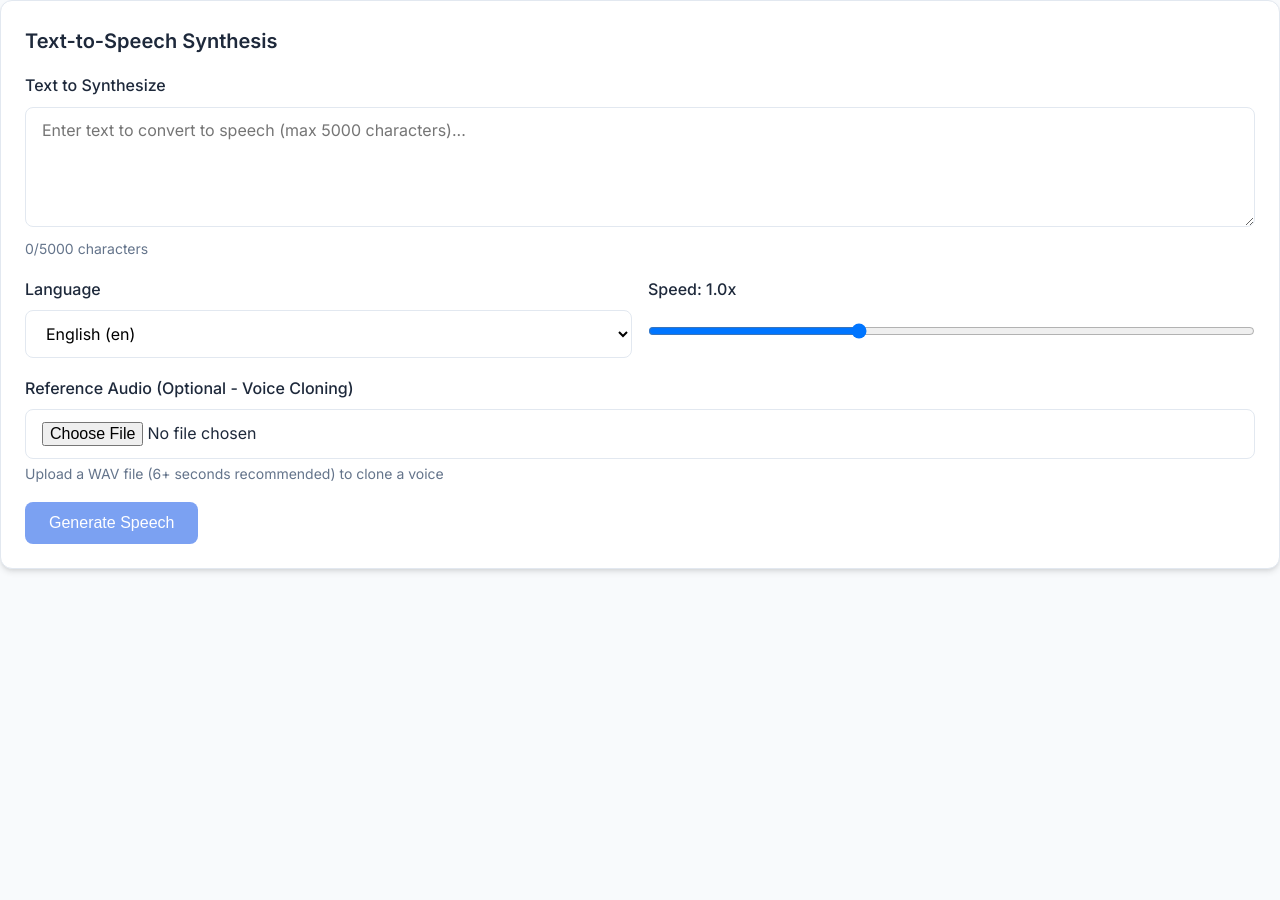
TTSForm › shows audio player after successful synthesis
The image size is (1280, 900).
Type "Hello" into the text box labelled "Text to Synthesize". click: coordinates (640, 167)
box: [25, 107, 1255, 227]
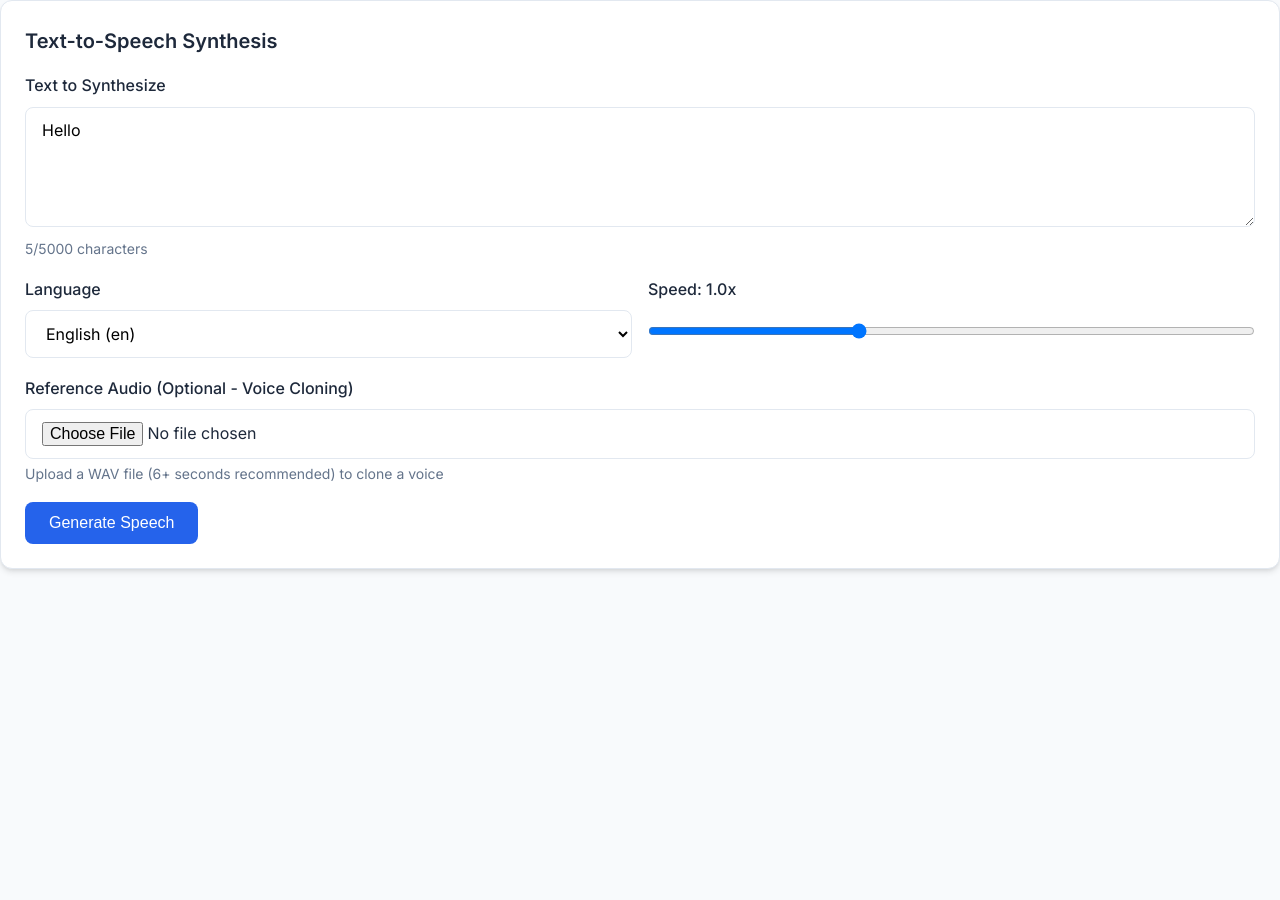
Click the button "Generate Speech". click: coordinates (112, 523)
box: [25, 502, 198, 544]
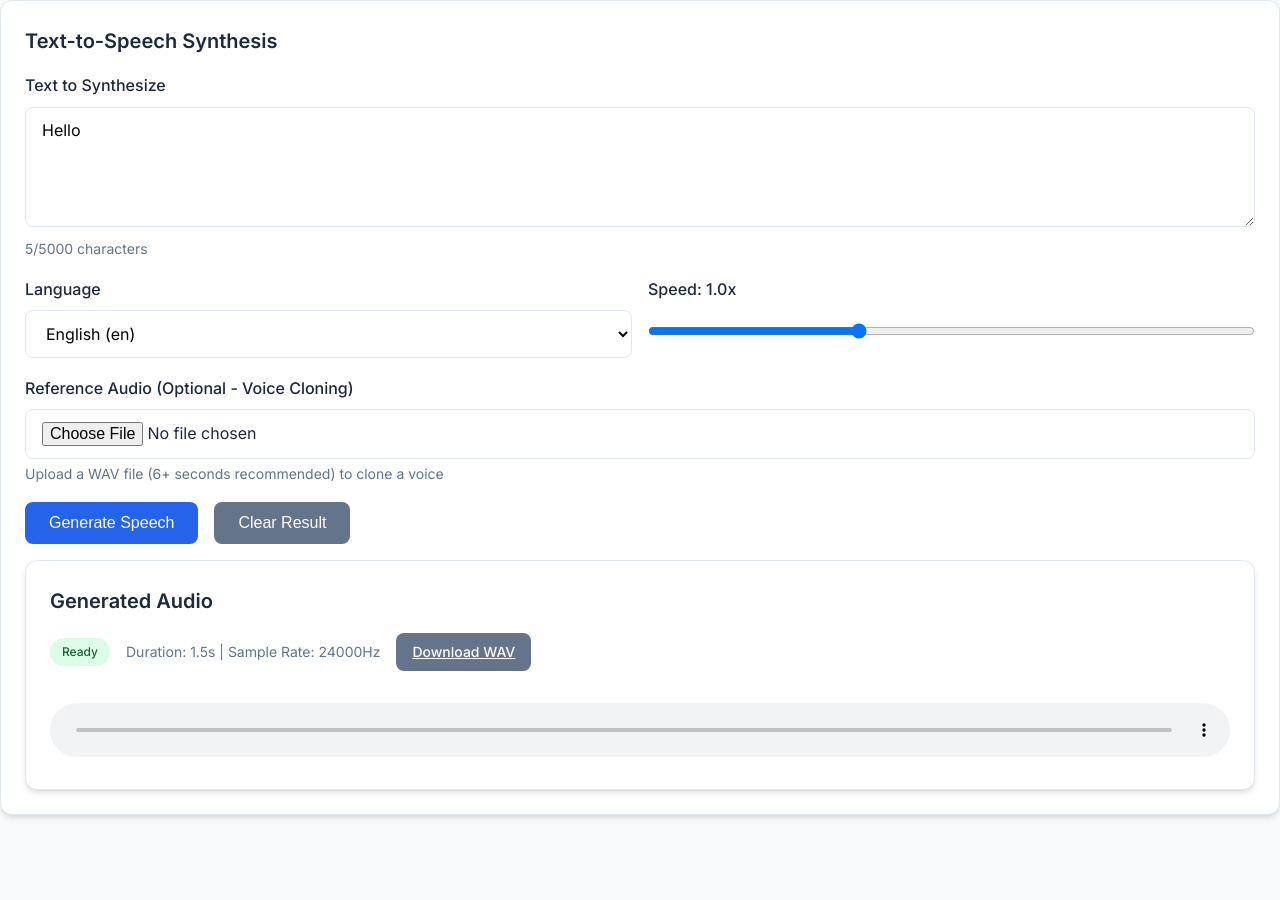
Check: the button "Download WAV" is shown, box [396, 633, 531, 671]
Check: the text "Duration: 1.5s | Sample Rate: 24000Hz" is shown, box [126, 641, 380, 663]
